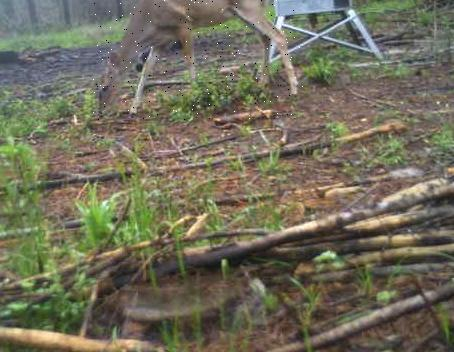Deer: (93, 0, 303, 120)
